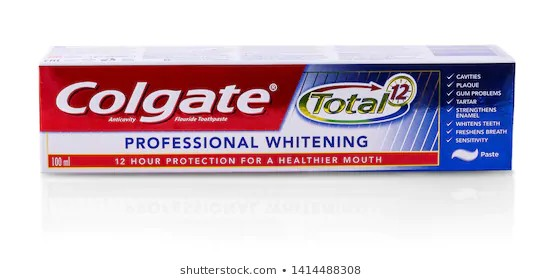colgate-small: (42, 42, 515, 175)
